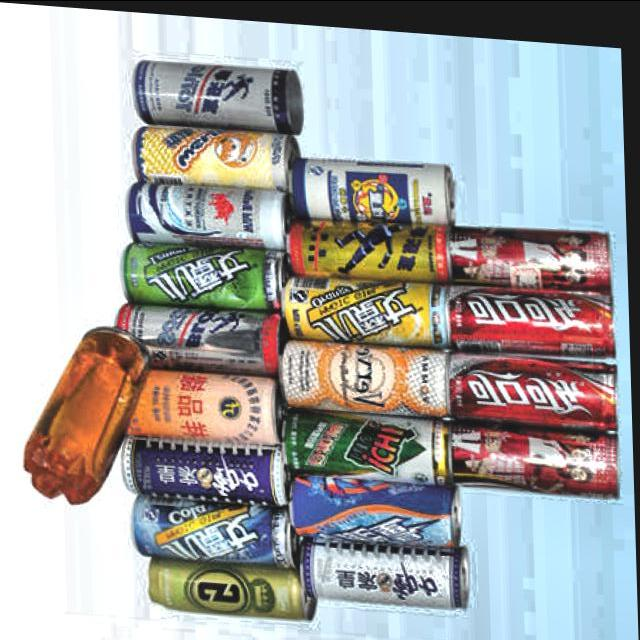litter: (277, 327, 458, 418), (286, 466, 468, 548), (278, 398, 456, 480), (280, 264, 456, 346), (134, 51, 312, 132), (448, 342, 626, 422), (448, 275, 628, 354), (118, 360, 285, 444), (450, 412, 624, 492), (116, 234, 293, 312), (125, 174, 301, 252), (114, 296, 292, 372), (128, 488, 300, 566), (293, 144, 464, 222), (285, 206, 460, 282), (299, 528, 473, 604), (120, 427, 294, 503), (132, 116, 308, 190), (450, 210, 618, 286), (144, 551, 320, 618)
